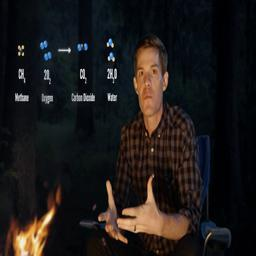fire: (5, 187, 62, 256)
